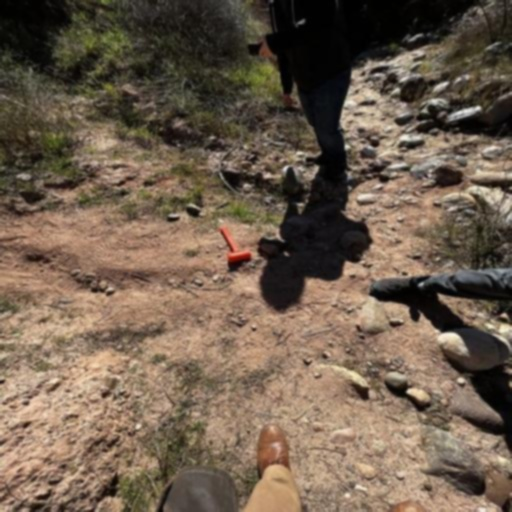mallet: (220, 226, 252, 262)
